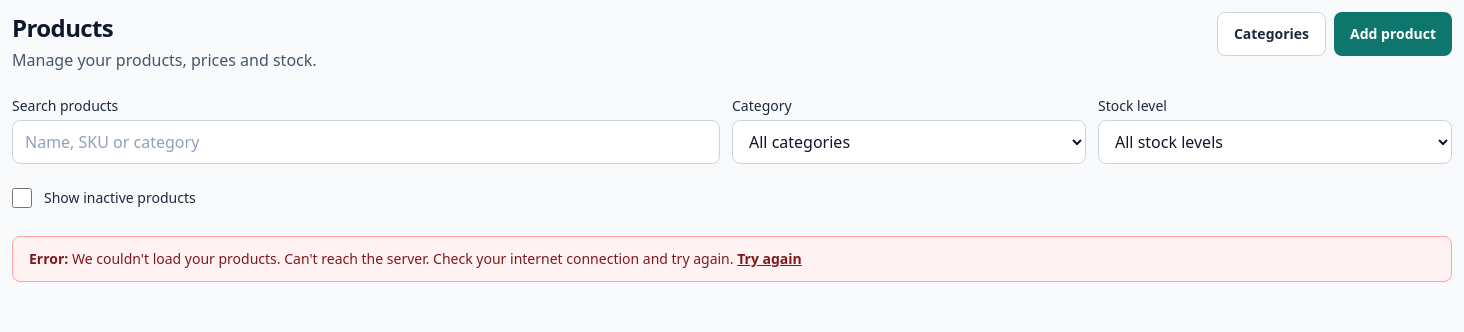
ProductsPage › recovers from a network error with Try again
Expected: the text "Can't reach the server" is shown, top-left (284, 249), bottom-right (734, 268)
Click the button "Try again". click: (770, 259)
box: top-left (737, 249), bottom-right (802, 269)
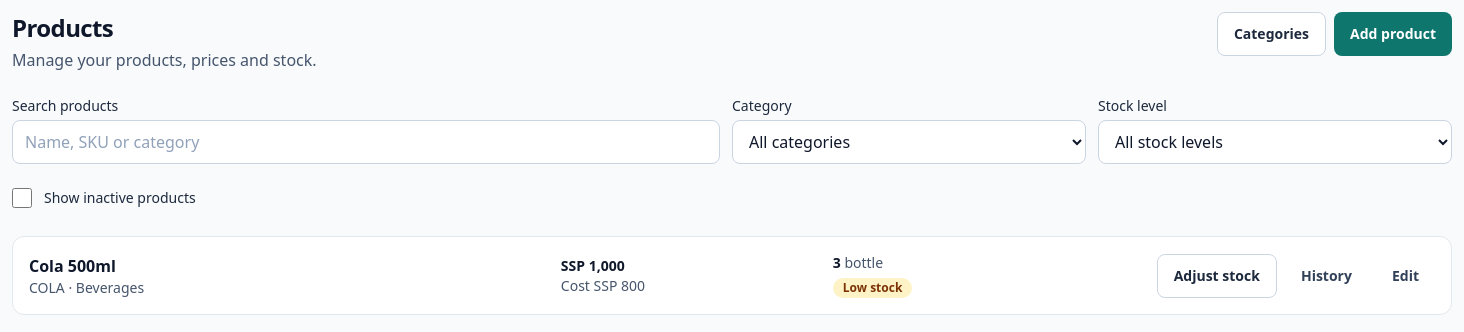
Expected: the text "Cola 500ml" is shown, top-left (29, 254), bottom-right (116, 276)
